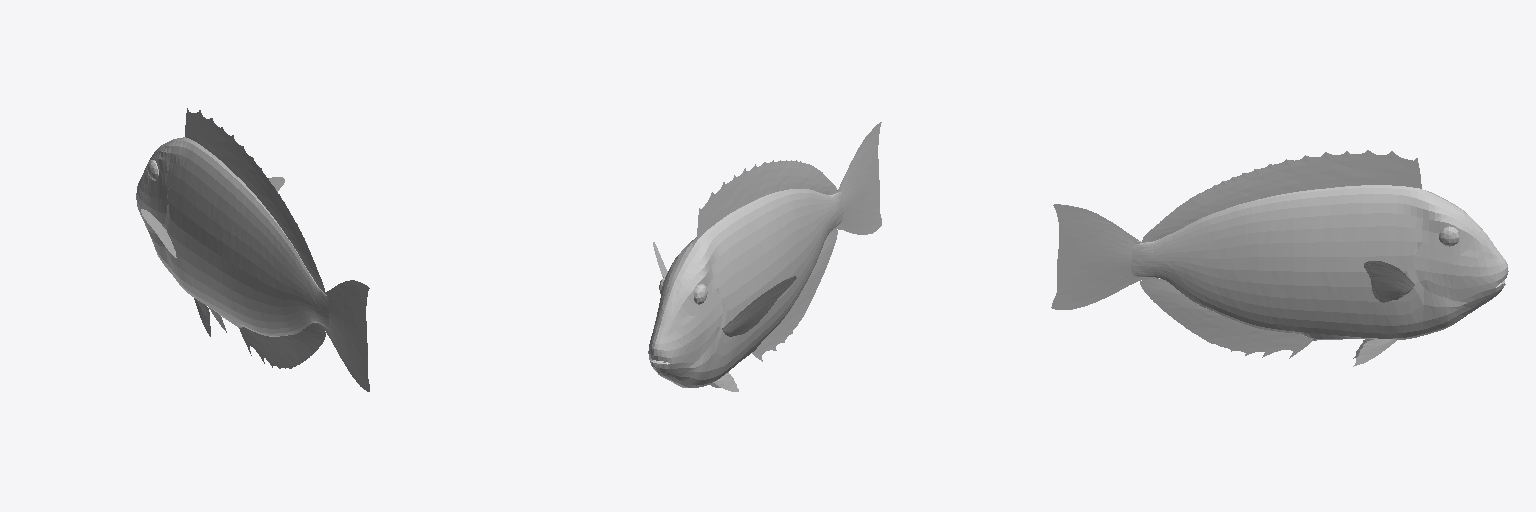
The model's file is fish.obj.
3 renders of one model, left to right at view 1: azimuth 30°, elevation 25°; view 2: azimuth 150°, elevation 25°; view 3: azimuth 270°, elevation 25°, orthographic.
Parts seen in each view (by area): view 1: Object_BlueTaT.jpg; view 2: Object_BlueTaT.jpg; view 3: Object_BlueTaT.jpg.
Boxes of the visible parts, x1,y1,x2,y2 form: Object_BlueTaT.jpg: [136, 108, 369, 391]; Object_BlueTaT.jpg: [648, 122, 881, 391]; Object_BlueTaT.jpg: [1051, 150, 1508, 366].
Bounding box in the file's own units: 0.905 × 1.29 × 2.5.